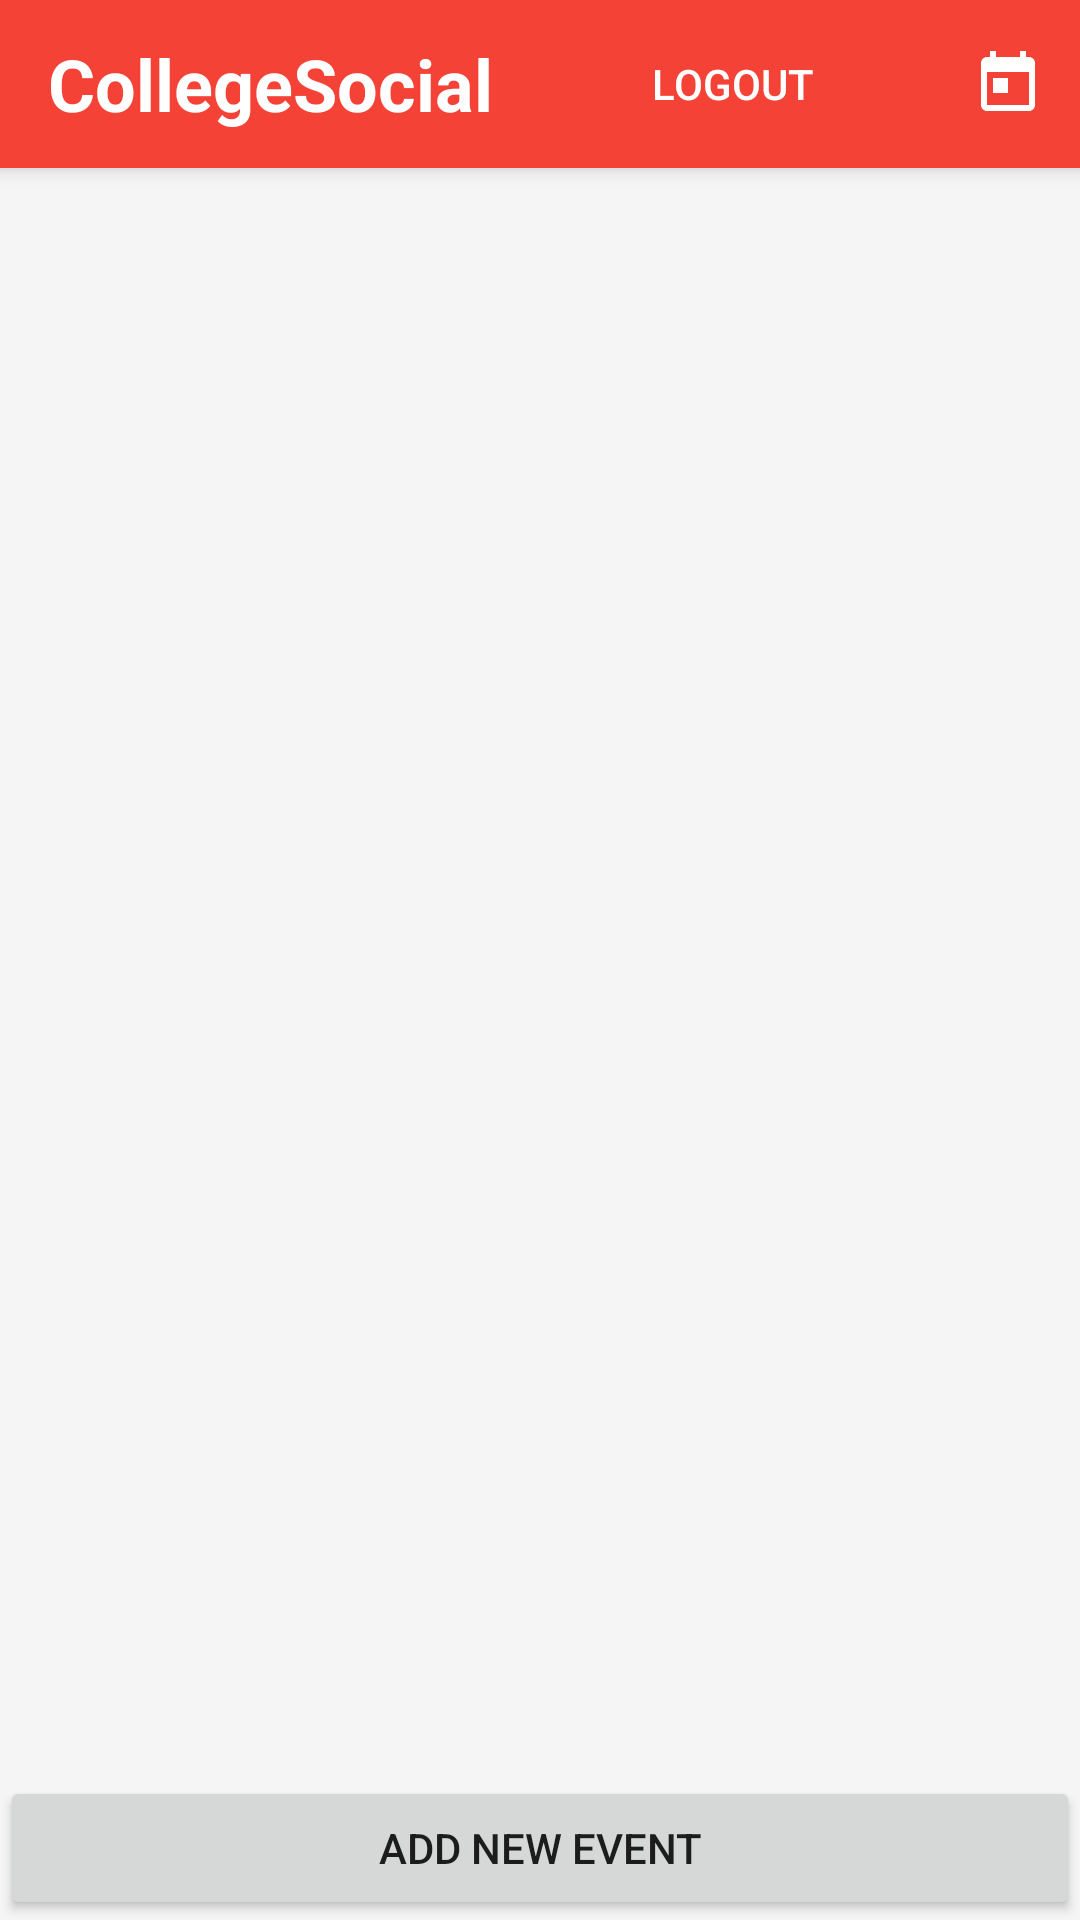

Icons on this 1080 x 1920 Android screen, each with its box as (x1, y1, x2, y2):
View Calendar: (981, 51, 1035, 111)
